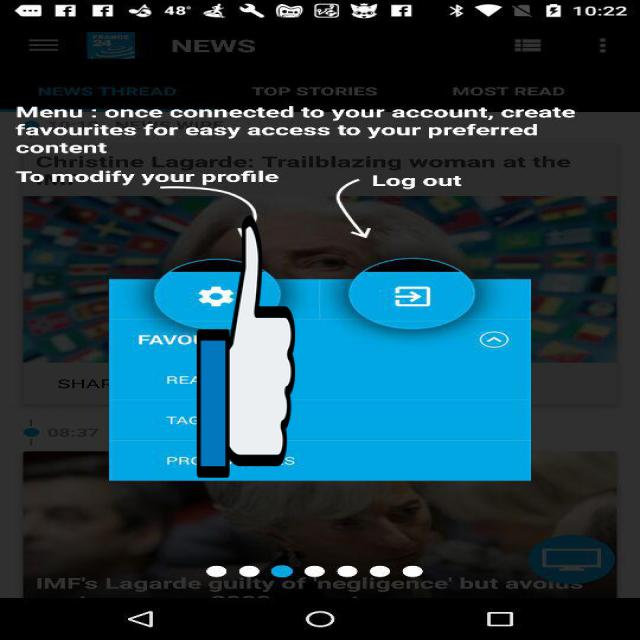privacy zuckering: (197, 210, 295, 483)
